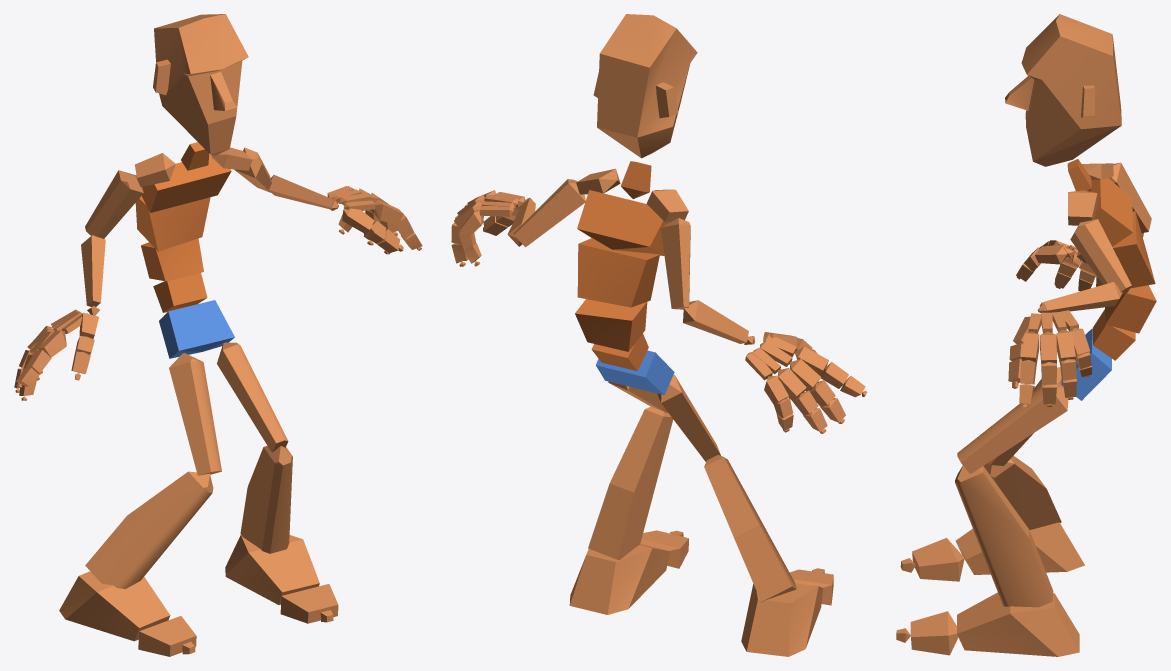
Rendered from prueba236.obj.
3 renders of one model, left to right at view 1: azimuth 30°, elevation 25°; view 2: azimuth 150°, elevation 25°; view 3: azimuth 270°, elevation 25°, orthographic. The views are drawn at different scales.
Parts seen in each view (by area): view 1: BOPED_Head, BOPED_R_leg, BOPED_R_foot, BOPED_L_leg, BOPED_R_foot01, BOPED_R_legup, Bone01, BOPED_L_legup, Bone04, Bone05, BOPED_R_arm_upper, Bone03 (+8 smaller); view 2: BOPED_Head, BOPED_L_leg, BOPED_R_leg, BOPED_R_foot01, BOPED_R_foot, Bone04, Bone05, Bone03, BOPED_R_arm_upper, BOPED_R_legup, BOPED_L_arm_upper, Bone01 (+7 smaller); view 3: BOPED_Head, BOPED_L_leg, BOPED_R_foot01, BOPED_L_legup, BOPED_R_leg, BOPED_R_foot, BOPED_L_arm_upper, Bone05, BOPED_R_foot_toe01, BOPED_R_foot_toe04, Bone03, Bone04 (+12 smaller).
Boxes of the visible parts, x1,y1,x2,y2 form: BOPED_Head: (153,14,248,155); BOPED_R_leg: (85,471,213,588); BOPED_R_foot: (59,571,170,641); BOPED_L_leg: (240,445,292,553); BOPED_R_foot01: (225,535,319,604); BOPED_R_legup: (169,353,221,475); Bone01: (159,300,234,358); BOPED_L_legup: (217,342,288,452); Bone04: (135,196,210,251); Bone05: (142,154,231,212); BOPED_R_arm_upper: (85,170,143,238); Bone03: (141,238,203,281); BOPED_Head: (593,14,697,158); BOPED_L_leg: (588,406,673,559); BOPED_R_leg: (704,455,796,602); BOPED_R_foot01: (569,544,669,614); BOPED_R_foot: (741,583,823,656); Bone04: (577,238,659,307); Bone05: (577,190,670,255); Bone03: (575,299,647,351); BOPED_R_arm_upper: (660,218,690,309); BOPED_R_legup: (657,374,720,461); BOPED_L_arm_upper: (513,179,585,247); Bone01: (596,350,674,394); BOPED_Head: (1005,14,1121,166); BOPED_L_leg: (955,465,1053,607); BOPED_R_foot01: (957,592,1079,656); BOPED_L_legup: (957,383,1068,473); BOPED_R_leg: (984,455,1061,529); BOPED_R_foot: (955,522,1084,574); BOPED_L_arm_upper: (1070,219,1131,295); Bone05: (1090,178,1133,246); BOPED_R_foot_toe01: (912,537,964,581); BOPED_R_foot_toe04: (910,611,958,655); Bone03: (1105,285,1156,333); Bone04: (1112,211,1155,288).
Bounding box in the file's own units: 130 × 177 × 70.15.
